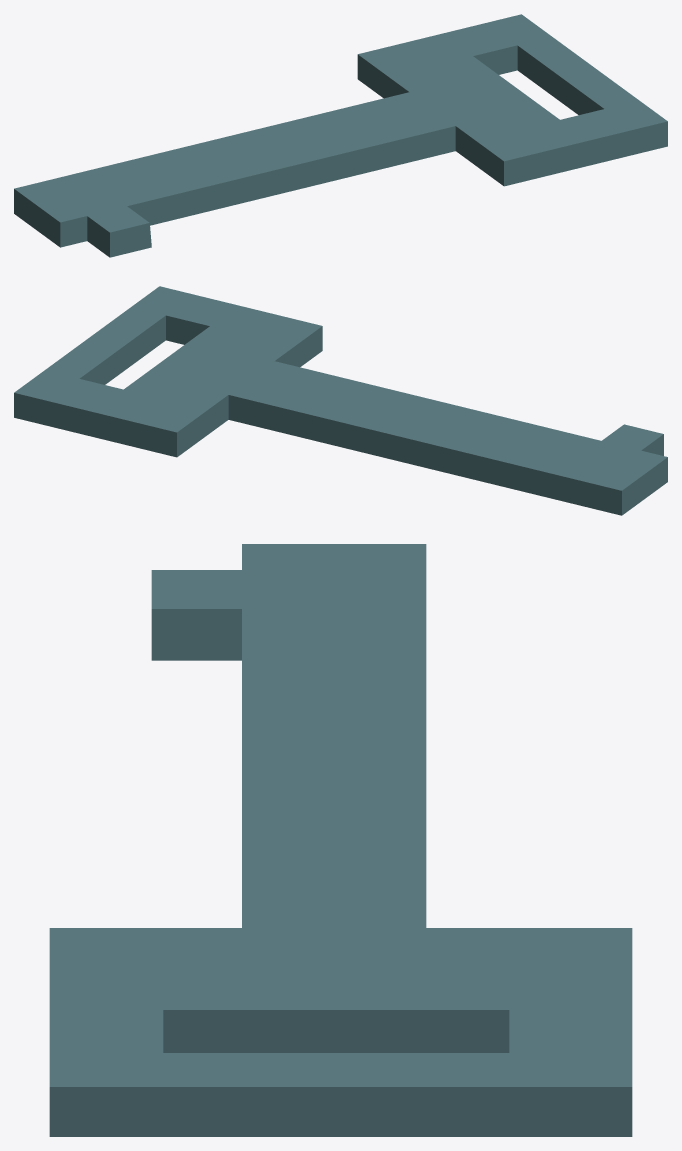
The model's file is Key_Blue.fbx.
3 renders of one model, top to bottom at view 1: azimuth 30°, elevation 25°; view 2: azimuth 150°, elevation 25°; view 3: azimuth 270°, elevation 25°, orthographic. The views are drawn at different scales.
Visible parts, largest first — view 1: Key_Blue; view 2: Key_Blue; view 3: Key_Blue.
Part boxes in pixels (bbox=[...]): Key_Blue: bbox=[14, 14, 667, 257]; Key_Blue: bbox=[14, 286, 667, 515]; Key_Blue: bbox=[49, 544, 632, 1136].
Bounding box in the file's own units: 0.1278 × 0.00548 × 0.0579.
